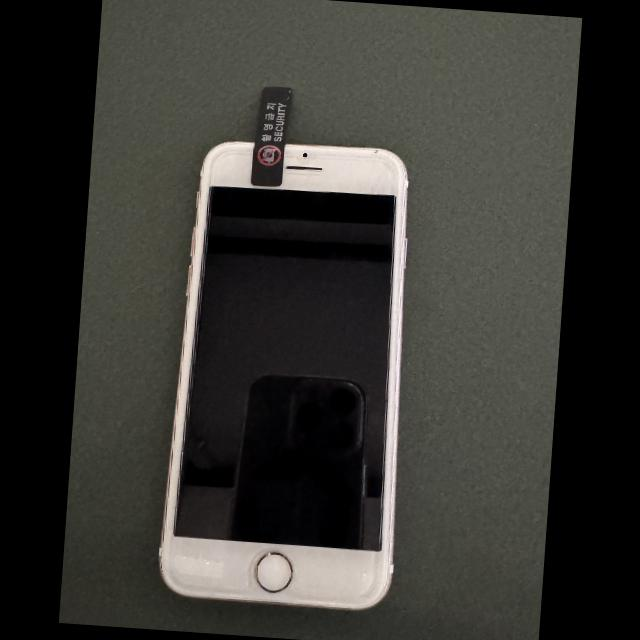lens: (302, 152, 307, 158)
phone: (159, 140, 408, 611)
sticker: (250, 86, 291, 185)
